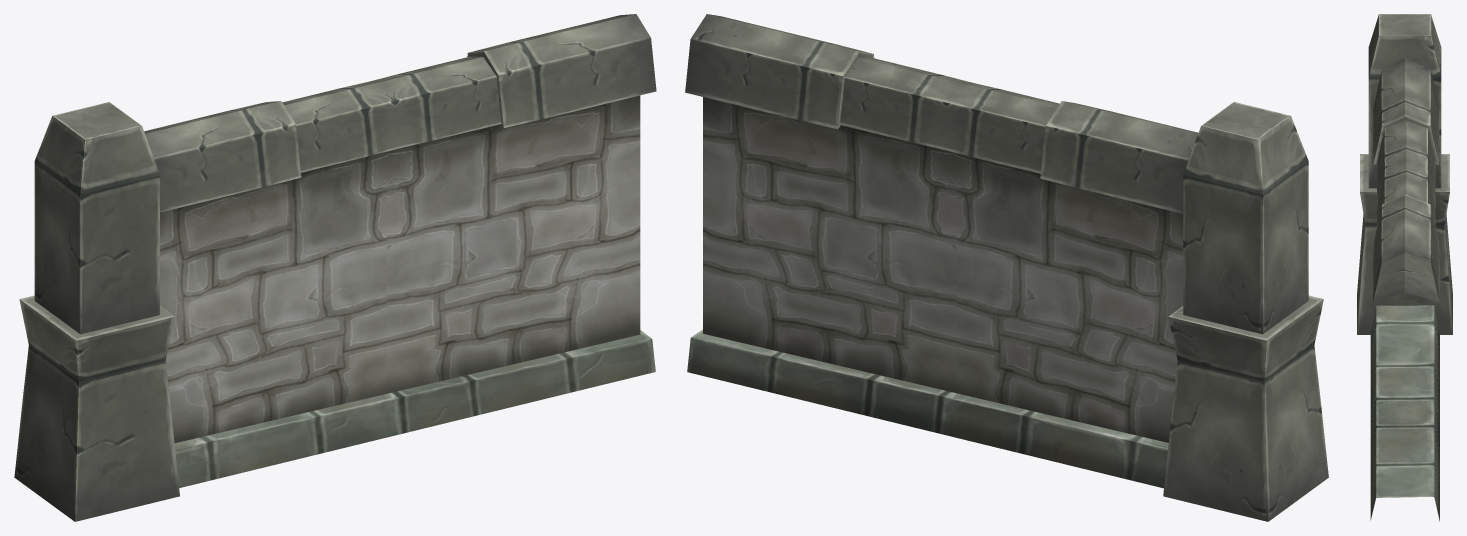
Rendered from wall_02_tile.fbx.
3 views of the same model, side by side, from view 1: azimuth 30°, elevation 25°; view 2: azimuth 150°, elevation 25°; view 3: azimuth 270°, elevation 25° (orthographic). The views are drawn at different scales.
Parts seen in each view (by area): view 1: wall_02_tile:Mesh; view 2: wall_02_tile:Mesh; view 3: wall_02_tile:Mesh.
Boxes of the visible parts, x1=… form: wall_02_tile:Mesh: x1=14, y1=14, x2=656, y2=521; wall_02_tile:Mesh: x1=685, y1=14, x2=1328, y2=521; wall_02_tile:Mesh: x1=1357, y1=14, x2=1452, y2=521.
Bounding box in the file's own units: 4.75 × 2.81 × 0.8432.
